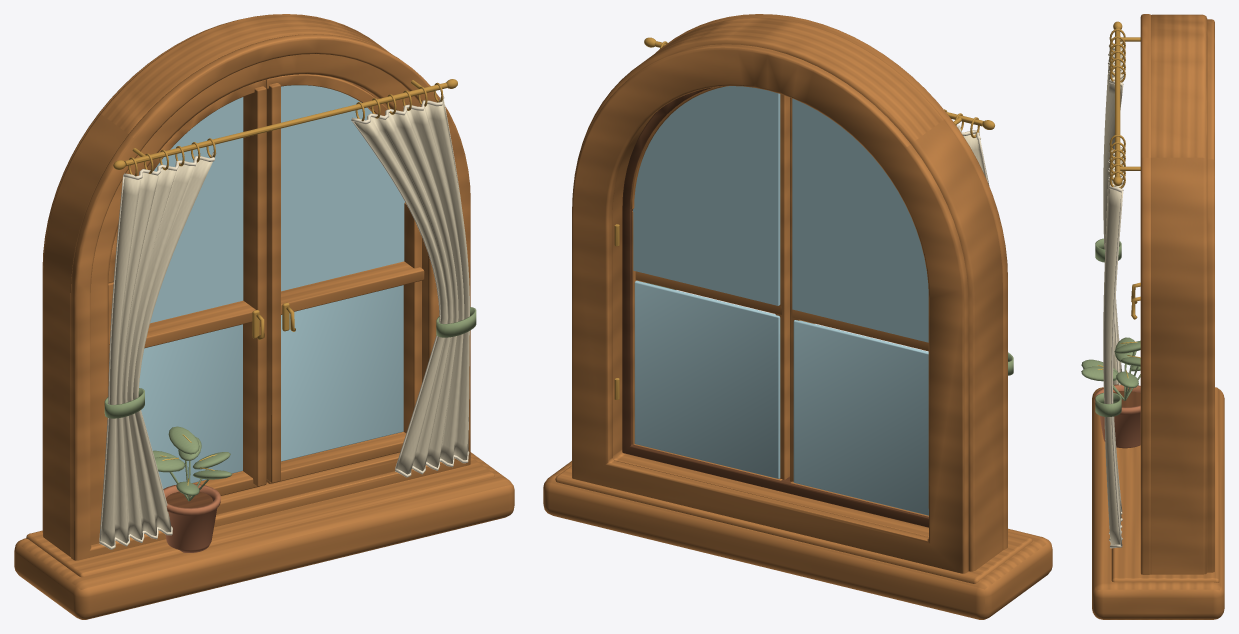
File: Window.fbx
3 views of the same model, side by side, from view 1: azimuth 30°, elevation 25°; view 2: azimuth 150°, elevation 25°; view 3: azimuth 270°, elevation 25° (orthographic). The views are drawn at different scales.
Parts seen in each view (by area): view 1: Window; view 2: Window; view 3: Window.
Boxes of the visible parts, x1=… form: Window: x1=14, y1=14, x2=514, y2=619; Window: x1=543, y1=14, x2=1052, y2=619; Window: x1=1081, y1=14, x2=1224, y2=619.
Size of the model in its own units: 135 by 150 by 39.95.
Materials: 1 (1 with a texture image).
